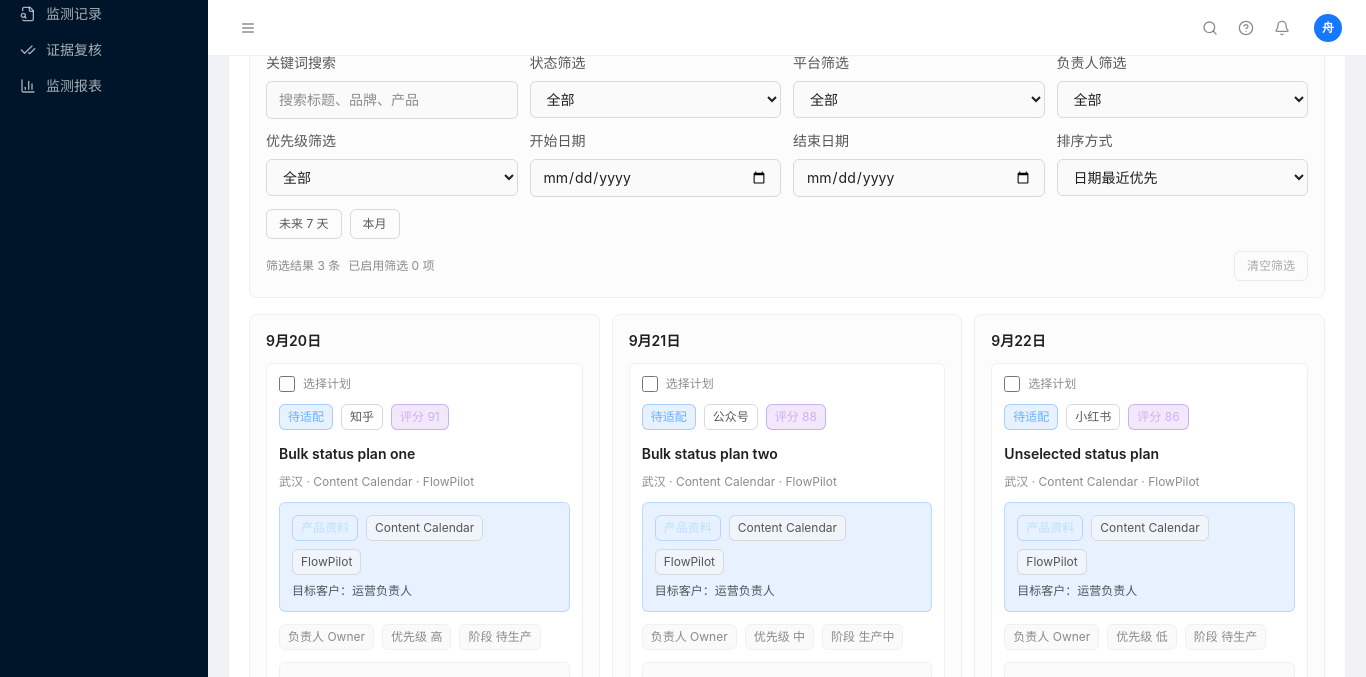
Test case: P28 内容日历独立页面 › bulk updates the selected content plan status
This screenshot has width=1366, height=677.
(page scrolled)
Step 1. Click the checkbox named "选择计划 Bulk status plan one" → [287, 384], box [279, 376, 295, 392]
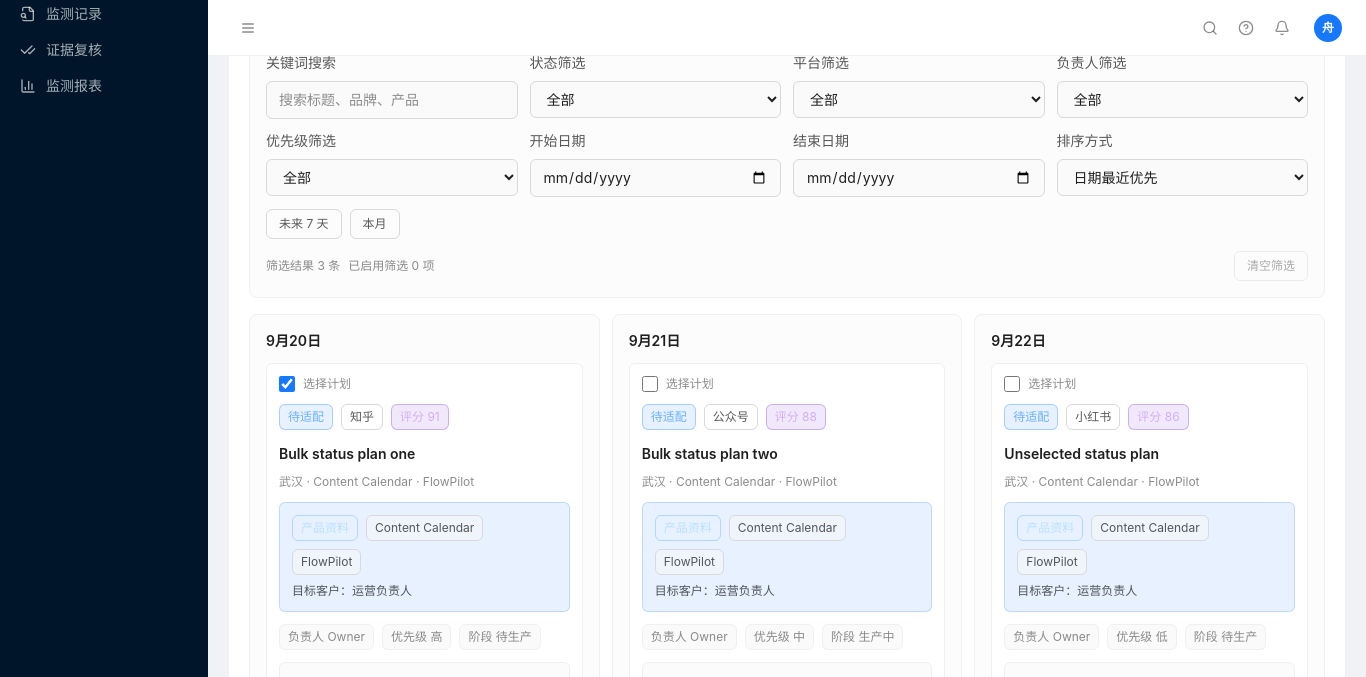
Step 2. Click the checkbox named "选择计划 Bulk status plan two" → [650, 384], box [642, 376, 658, 392]
(page scrolled)
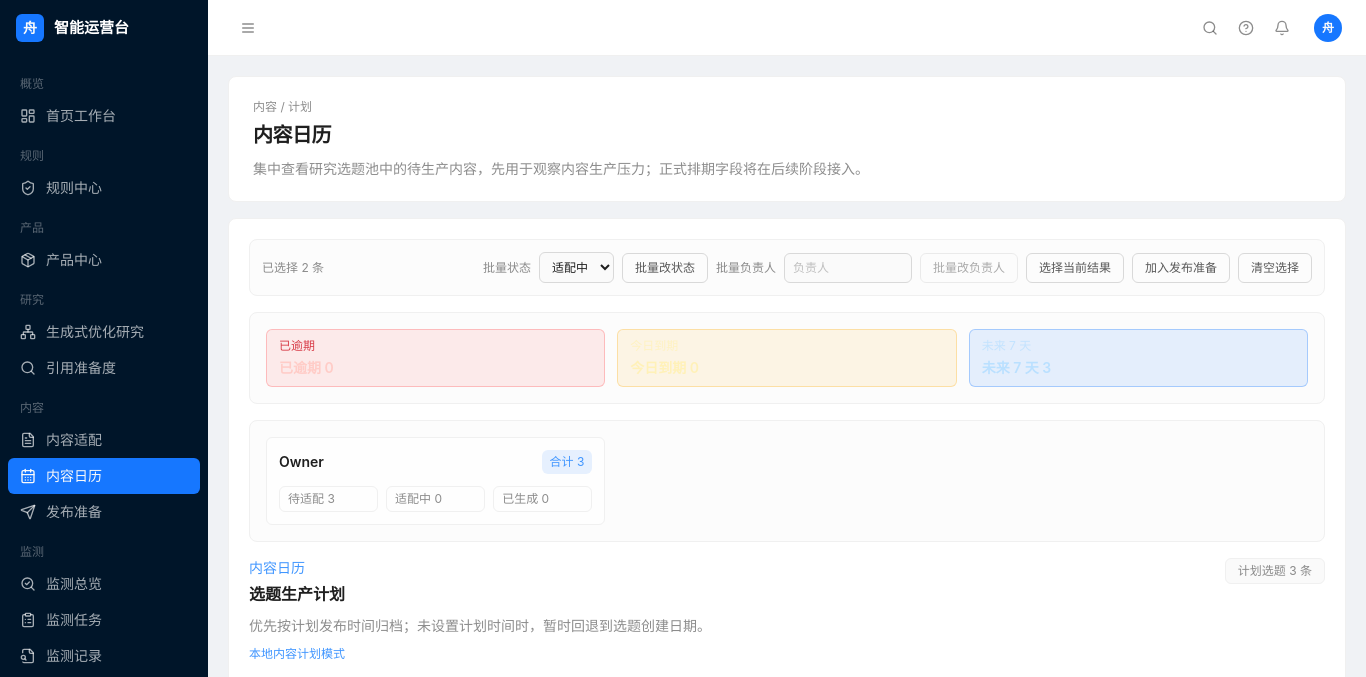
Step 3. Select "已生成" in the dropdown labelled "批量状态" → [576, 268], box [539, 252, 614, 283]
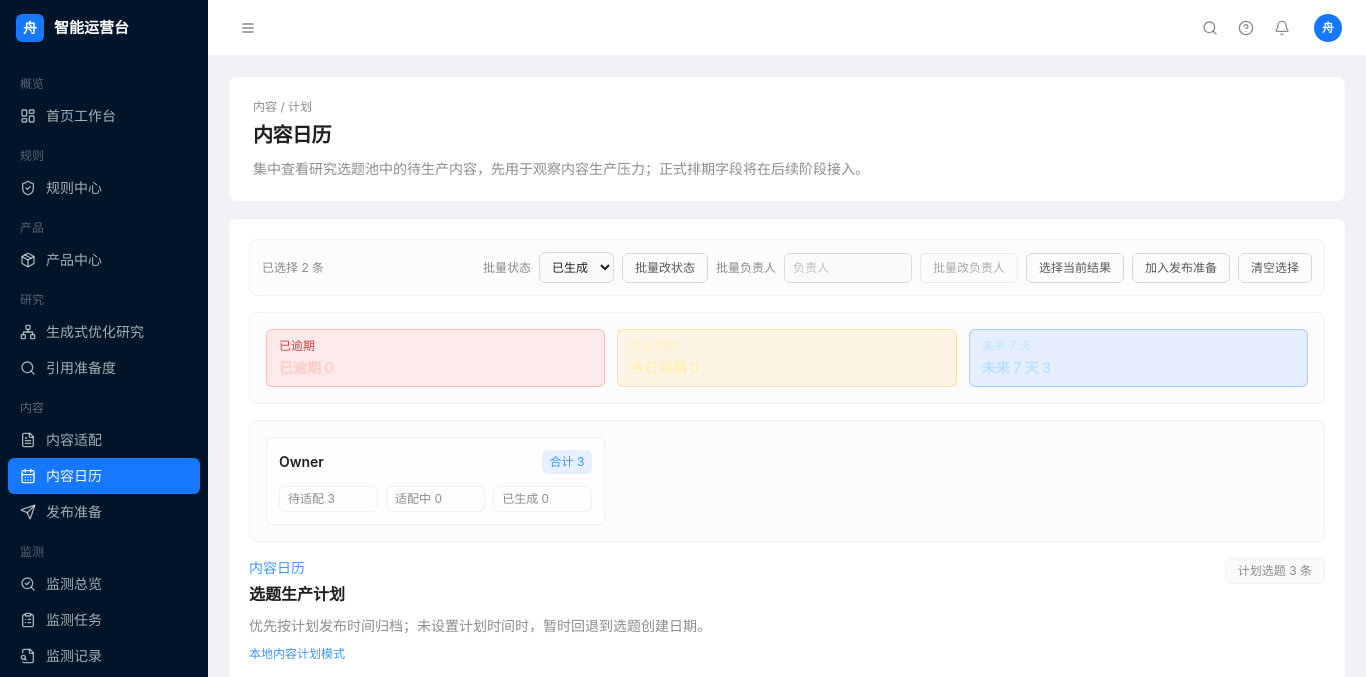
Step 4. Click the button "批量改状态" → [665, 268], box [622, 253, 708, 283]
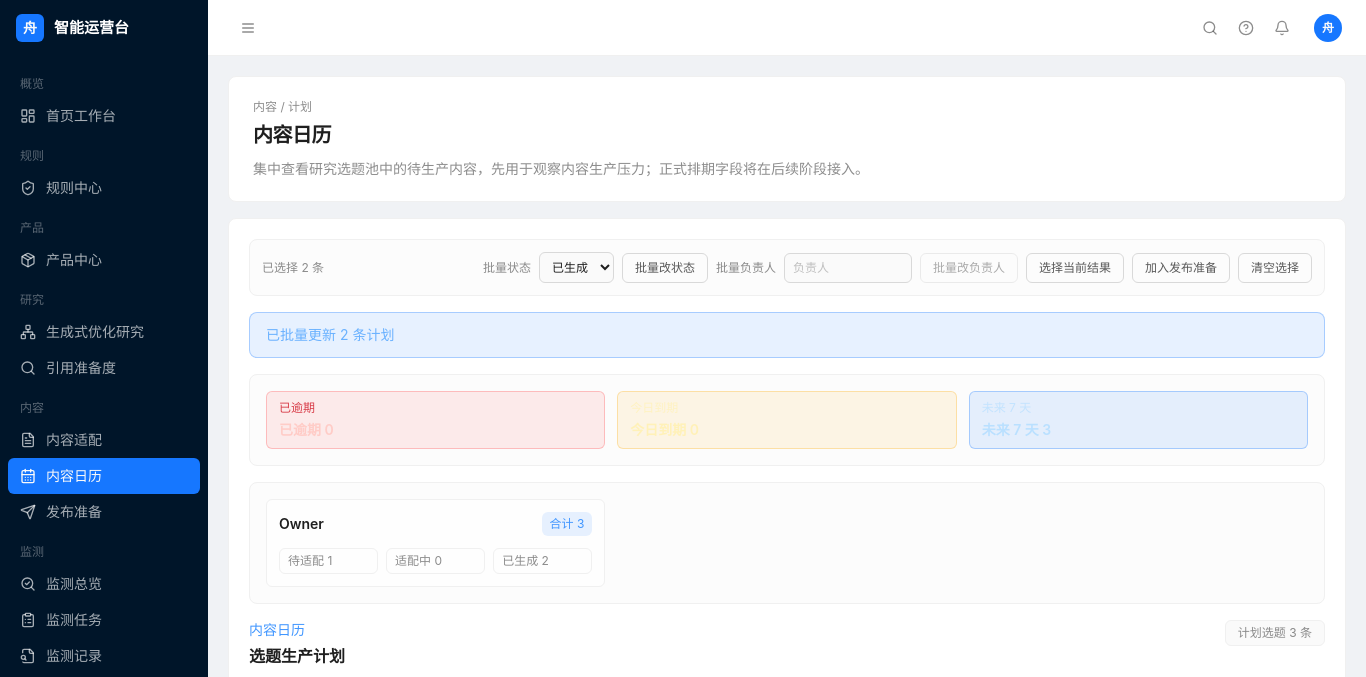
Check: the message reads "已批量更新 2 条计划", box [266, 326, 394, 343]
